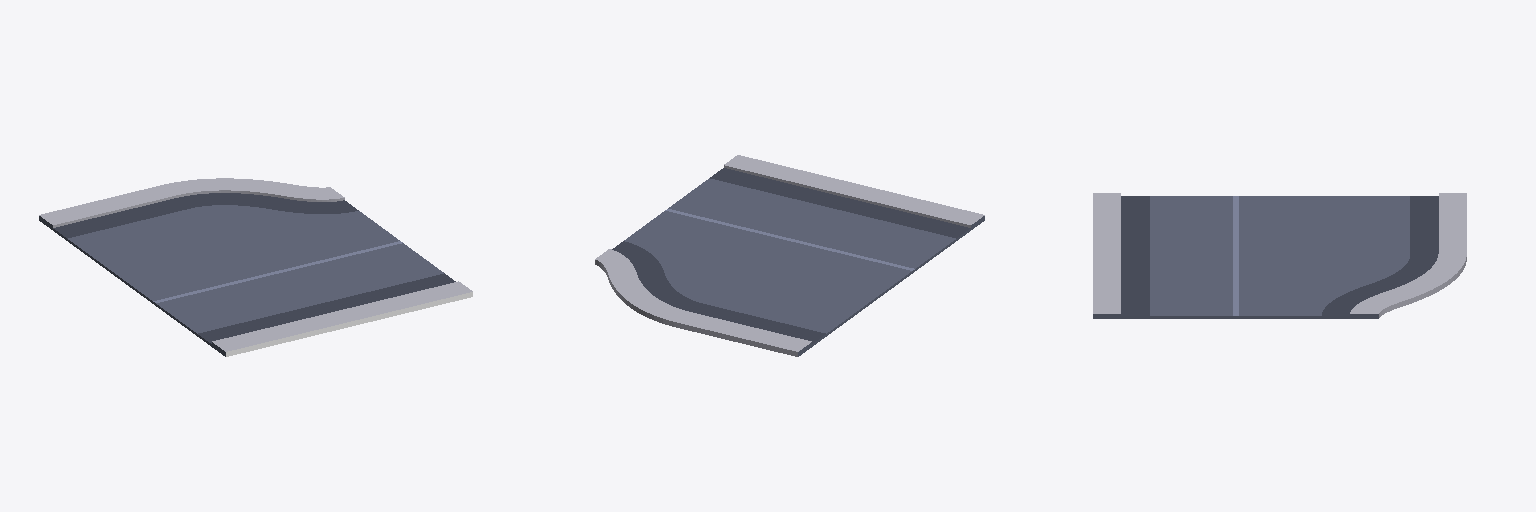
File: road_sideEntry.obj
The picture shows the model from 3 angles: view 1: azimuth 30°, elevation 25°; view 2: azimuth 150°, elevation 25°; view 3: azimuth 270°, elevation 25°; orthographic projection.
Parts seen in each view (by area): view 1: road_sideEntry; view 2: road_sideEntry; view 3: road_sideEntry.
Part boxes in pixels (x1,y1,x2,y2): road_sideEntry: (39, 178, 472, 356); road_sideEntry: (595, 155, 984, 356); road_sideEntry: (1093, 193, 1466, 318).
Bounding box in the file's own units: 1 × 0.02 × 1.31.